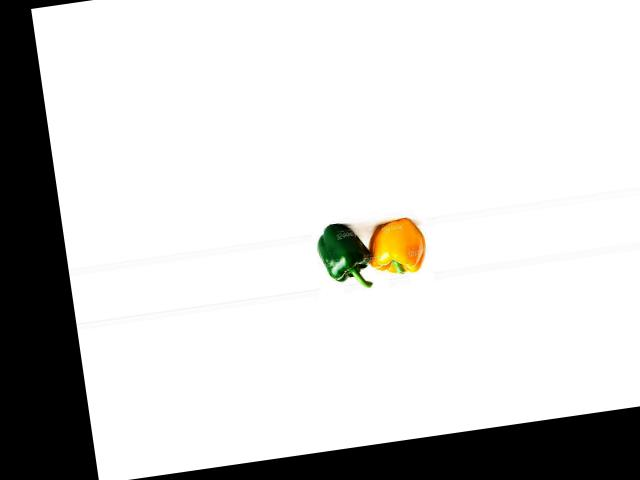bell_pepper: (309, 211, 373, 289)
